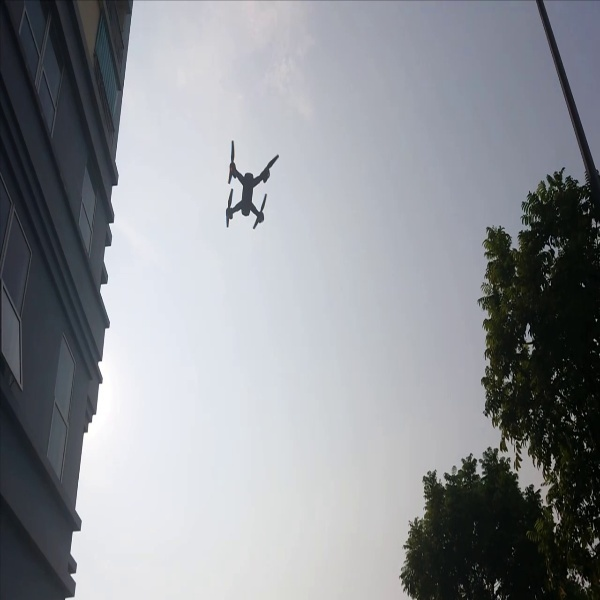drone: (214, 136, 284, 232)
